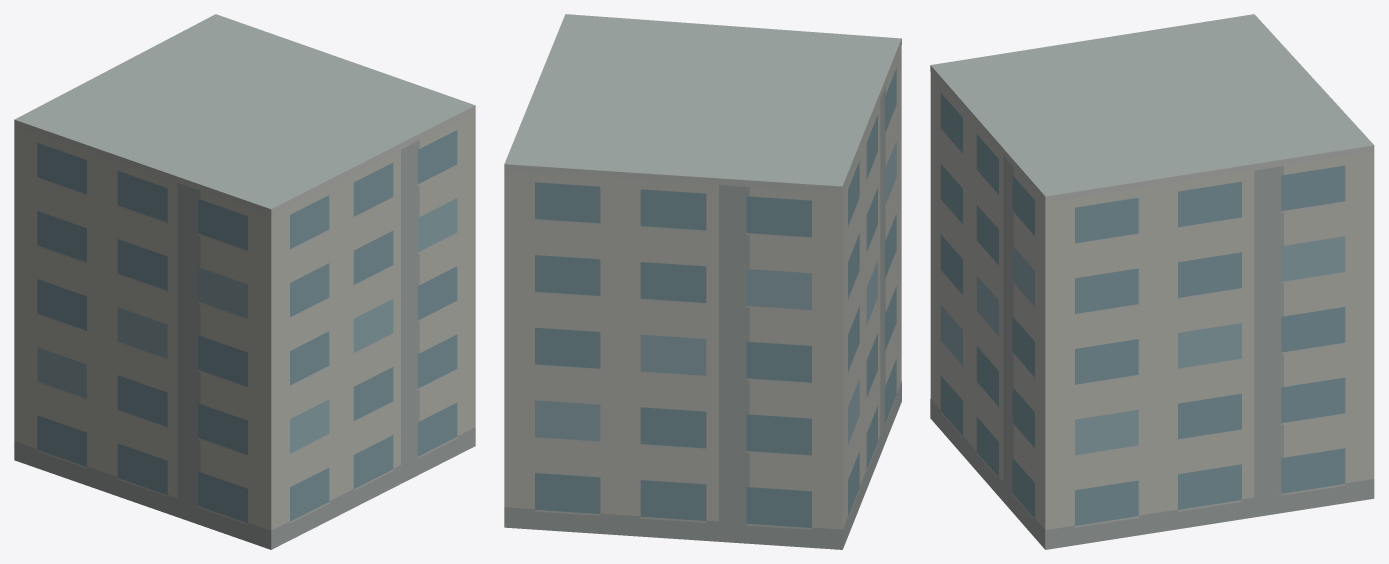
File: survey-upis-32889780.glb
The picture shows the model from 3 angles, left to right: view 1: azimuth 30°, elevation 25°; view 2: azimuth 150°, elevation 25°; view 3: azimuth 270°, elevation 25°; orthographic projection. The views are drawn at different scales.
Parts seen in each view (by area): view 1: survey-upis-32889780.tmp; view 2: survey-upis-32889780.tmp; view 3: survey-upis-32889780.tmp.
Boxes of the visible parts, x1=… form: survey-upis-32889780.tmp: x1=14, y1=14, x2=475, y2=549; survey-upis-32889780.tmp: x1=504, y1=14, x2=901, y2=549; survey-upis-32889780.tmp: x1=930, y1=14, x2=1374, y2=549.
Bounding box in the file's own units: 14.63 × 13.2 × 15.04.
